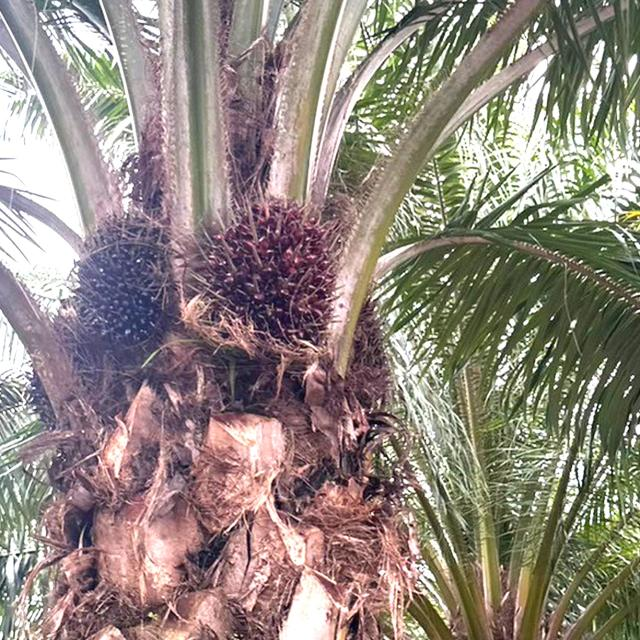ripe: (212, 186, 342, 334), (77, 211, 182, 350)
